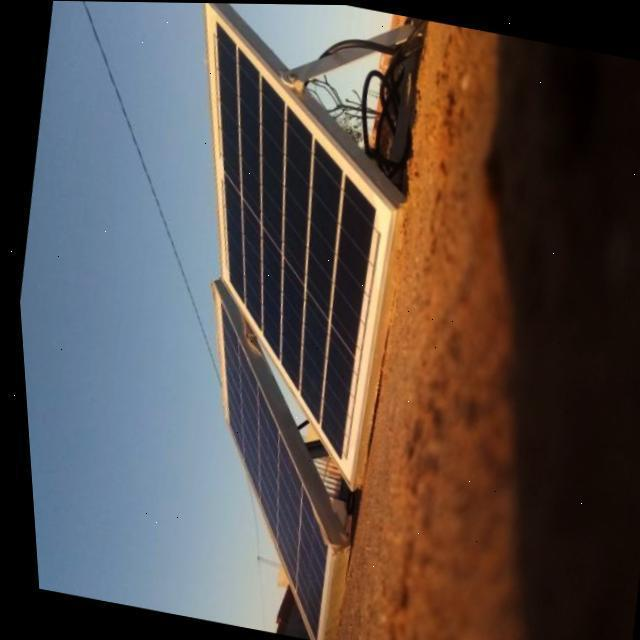Normal Solar Panel: (122, 1, 435, 488), (155, 288, 372, 640)
